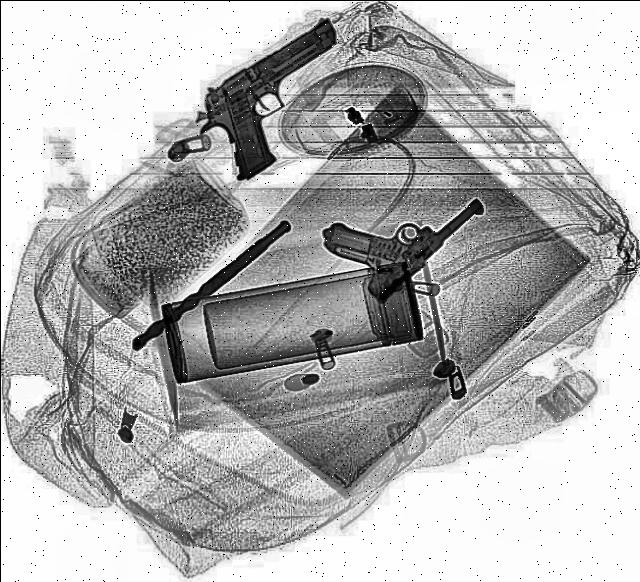Gun: (178, 17, 392, 181), (304, 148, 490, 310)
